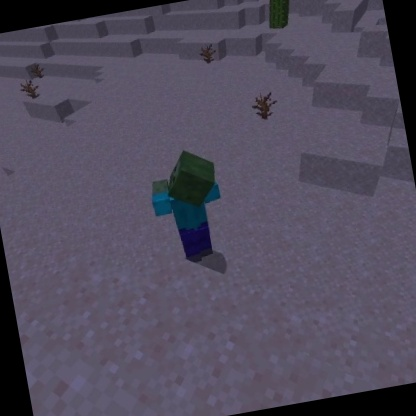zombie: (140, 142, 236, 273)
